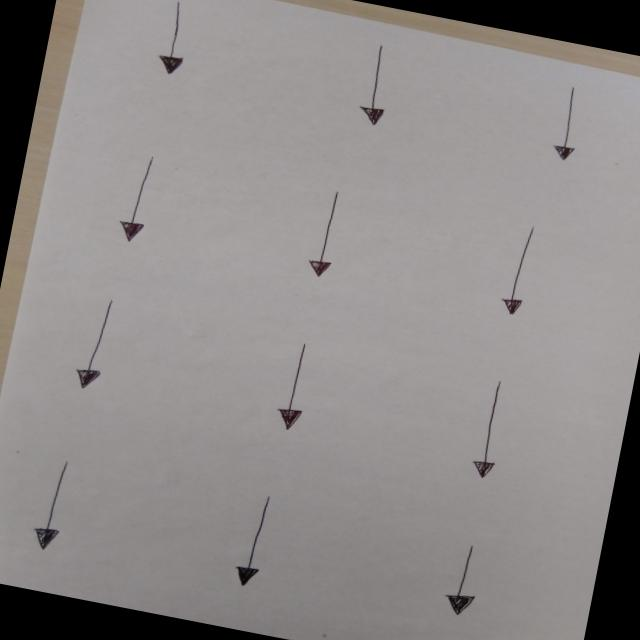arrow_line_down: (294, 184, 355, 290), (225, 484, 282, 597), (27, 454, 86, 562), (465, 378, 525, 481), (67, 292, 125, 396), (489, 225, 548, 324), (344, 39, 401, 133), (270, 346, 324, 440), (116, 150, 166, 248), (147, 0, 206, 82), (441, 536, 492, 624), (544, 81, 593, 162)
